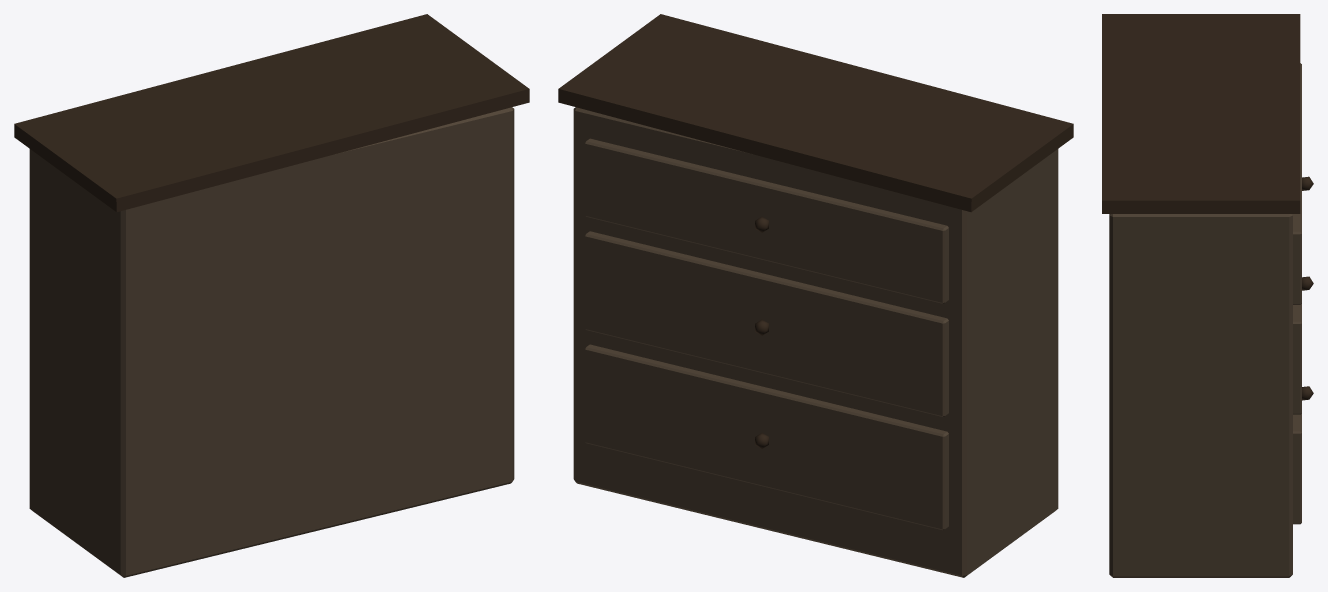
The model's file is dresser.glb.
The picture shows the model from 3 angles, left to right: view 1: azimuth 30°, elevation 25°; view 2: azimuth 150°, elevation 25°; view 3: azimuth 270°, elevation 25°; orthographic projection. The views are drawn at different scales.
Parts seen in each view (by area): view 1: dresser; view 2: dresser; view 3: dresser.
Part boxes in pixels (x1=…): dresser: x1=14, y1=14, x2=529, y2=577; dresser: x1=558, y1=14, x2=1073, y2=577; dresser: x1=1102, y1=14, x2=1313, y2=577.
Size of what is drawn, in the model's own units: 1.26 by 1.15 by 0.577.
